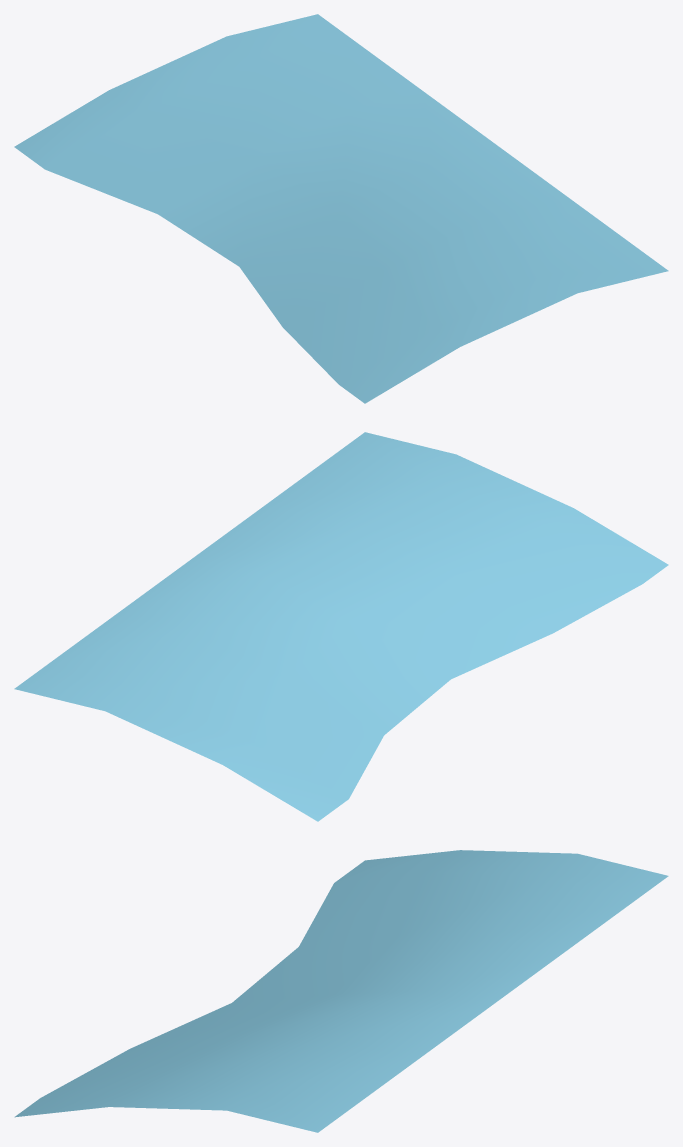
Rendered from Snow_StraightA.fbx.
3 renders of one model, top to bottom at view 1: azimuth 30°, elevation 25°; view 2: azimuth 150°, elevation 25°; view 3: azimuth 330°, elevation 25°, orthographic.
Visible parts, largest first — view 1: Snow_StraightA; view 2: Snow_StraightA; view 3: Snow_StraightA.
Boxes of the visible parts, box(x1,y1,x2,y2) form: Snow_StraightA: box(14, 14, 668, 403); Snow_StraightA: box(14, 432, 668, 821); Snow_StraightA: box(14, 850, 668, 1132).
Size of the model in its own units: 0.6 by 0.1106 by 1.2.
